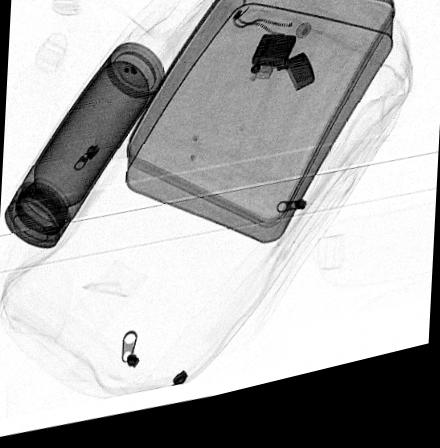Lighter: (249, 46, 316, 107)
